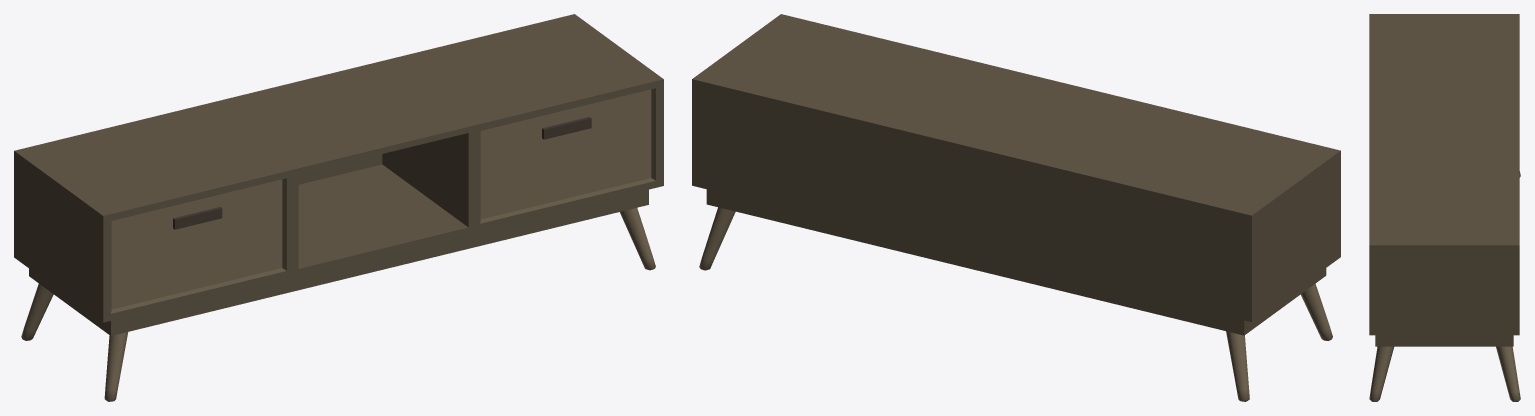
File: Drawer_2.glb
3 renders of one model, left to right at view 1: azimuth 30°, elevation 25°; view 2: azimuth 150°, elevation 25°; view 3: azimuth 270°, elevation 25°, orthographic. The views are drawn at different scales.
Visible parts, largest first — view 1: Drawer_2; view 2: Drawer_2; view 3: Drawer_2.
Part boxes in pixels (x1=…): Drawer_2: x1=14, y1=14, x2=663, y2=401; Drawer_2: x1=692, y1=14, x2=1340, y2=401; Drawer_2: x1=1369, y1=14, x2=1520, y2=401.
Size of the model in its own units: 4.04 by 1.3 by 1.12.
